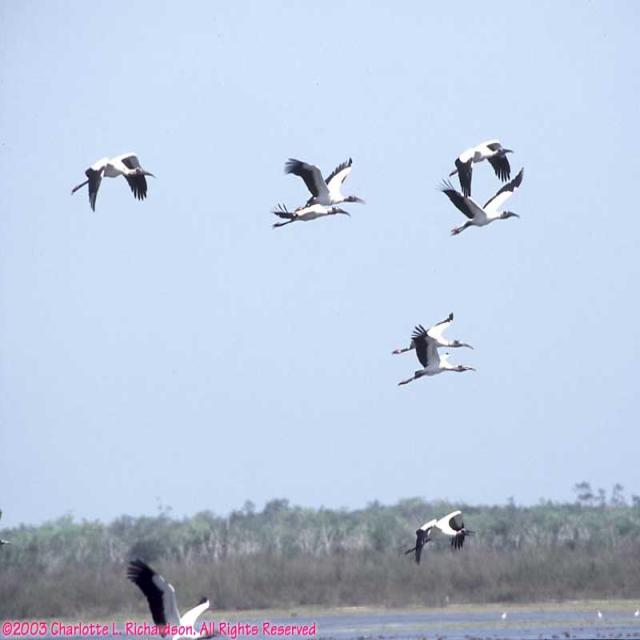bird: (125, 560, 213, 640), (272, 156, 364, 223), (439, 167, 526, 237), (72, 154, 158, 211), (393, 307, 473, 364), (445, 140, 517, 194), (409, 510, 477, 563), (389, 361, 479, 384)
